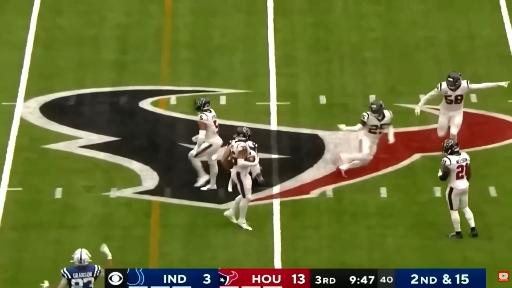Helmet: (72, 249, 91, 265), (443, 139, 460, 155), (447, 72, 461, 90), (234, 127, 251, 140), (370, 100, 383, 115), (195, 98, 210, 111)
Jersey: (436, 81, 470, 112), (442, 152, 469, 189), (361, 110, 392, 140), (61, 264, 101, 287), (230, 140, 257, 174), (199, 109, 218, 141), (229, 140, 257, 153)
Player: (415, 72, 509, 139), (339, 100, 394, 175), (439, 139, 478, 238), (222, 142, 259, 230), (189, 98, 222, 190), (55, 249, 104, 287), (229, 127, 258, 155)
